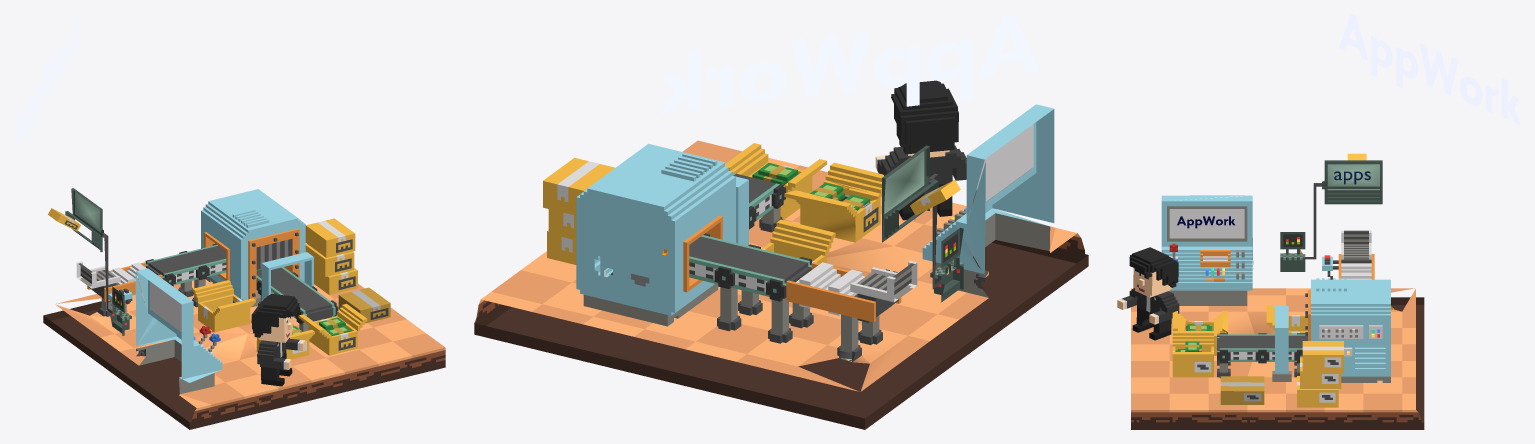
The picture shows the model from 3 angles, left to right: view 1: azimuth 30°, elevation 25°; view 2: azimuth 150°, elevation 25°; view 3: azimuth 270°, elevation 25°; orthographic projection. The views are drawn at different scales.
Visible parts, largest first — view 1: room, man, Appwork, box, polySurface30; view 2: room, Appwork, man, box.001, roll02, money_drop01.001; view 3: room, man, Appwork, box.
Part boxes in pixels (x1,y1,x2,y2): room: [43, 188, 445, 429]; man: [251, 294, 305, 386]; Appwork: [14, 15, 80, 149]; box: [338, 287, 390, 323]; polySurface30: [256, 239, 292, 269]; room: [474, 104, 1088, 429]; Appwork: [661, 14, 1039, 113]; man: [875, 80, 966, 220]; box.001: [910, 180, 960, 215]; roll02: [796, 262, 840, 308]; money_drop01.001: [752, 163, 797, 184]; room: [1131, 160, 1424, 429]; man: [1117, 247, 1179, 340]; Appwork: [1339, 14, 1520, 124]; box: [1220, 376, 1264, 404].
Size of the model in its own units: 3.42 by 2.6 by 3.64.
Materials: 10 (7 with a texture image).
